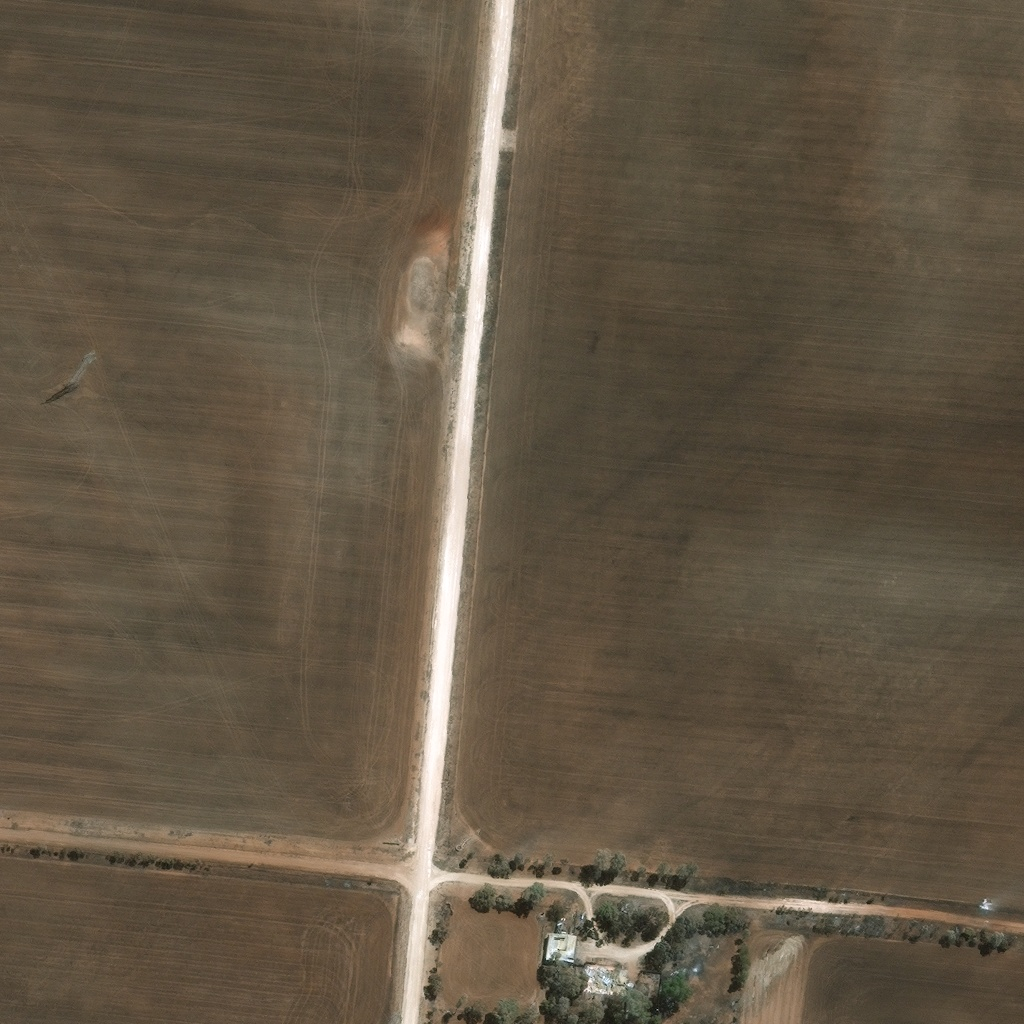0 no-damage: (545, 931, 576, 963)
3 destroyed: (587, 963, 627, 991)
